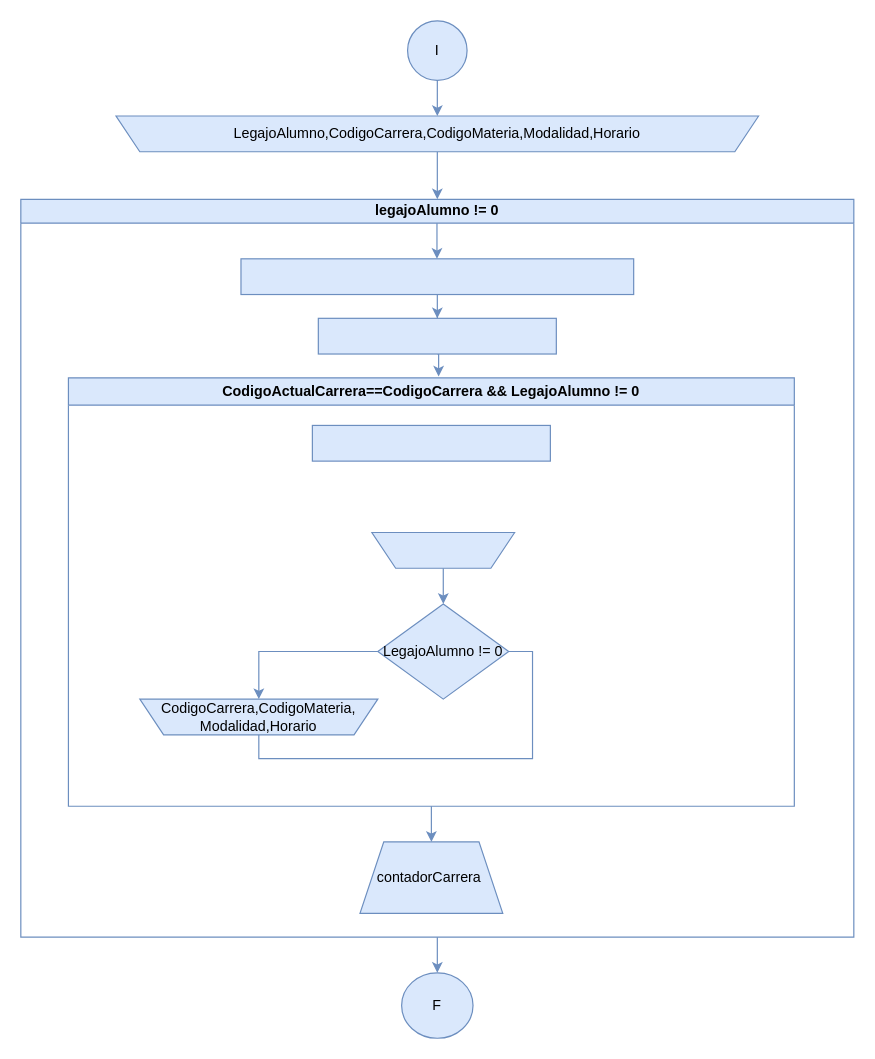
Some shapes in this 875 by 1059 pixel diagram are drawn without their labels. The shapes that lost their labels are listed below. From the top down, each one's box as (x1, y1, x2, y2) in pixels, then its label:
(240, 258, 634, 295): CodigoActualCarrera=CodigoCarrera
(317, 317, 556, 354): contadorCarrera= 0
(311, 424, 550, 461): contadorCarrera ++
(371, 531, 515, 568): LegajoAlumno
